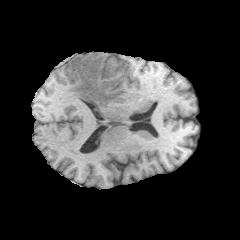glioma: (68, 54, 130, 109)
